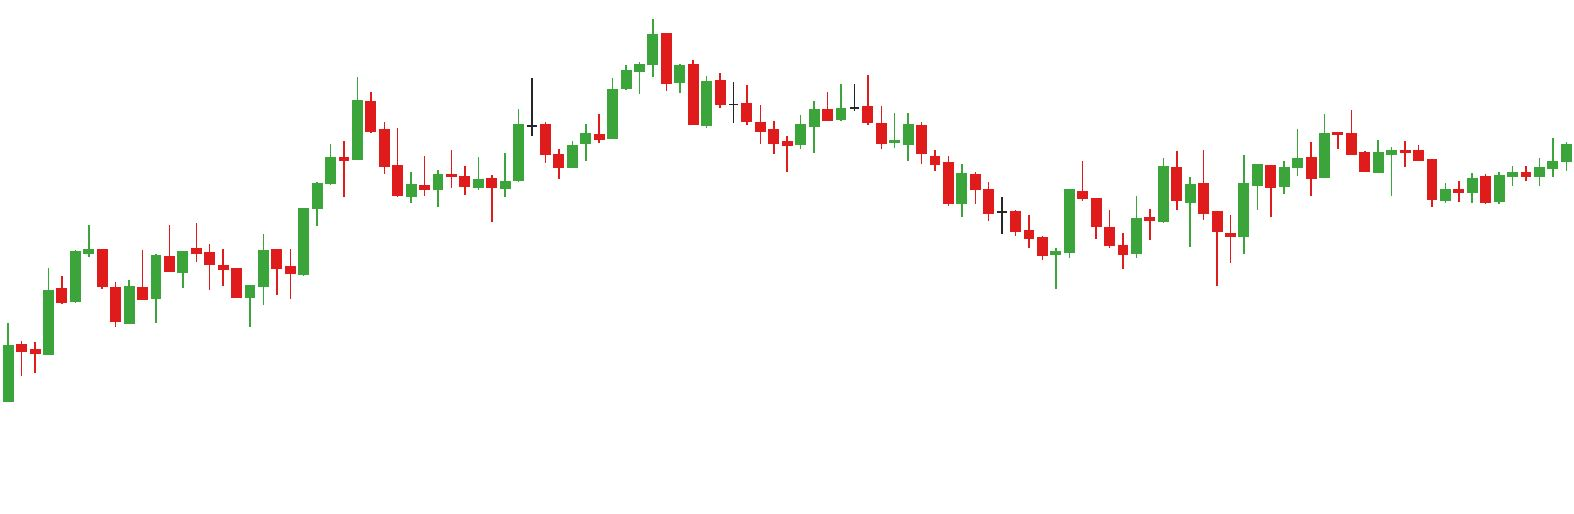buy: (1115, 179, 1251, 289), (148, 241, 256, 335)
